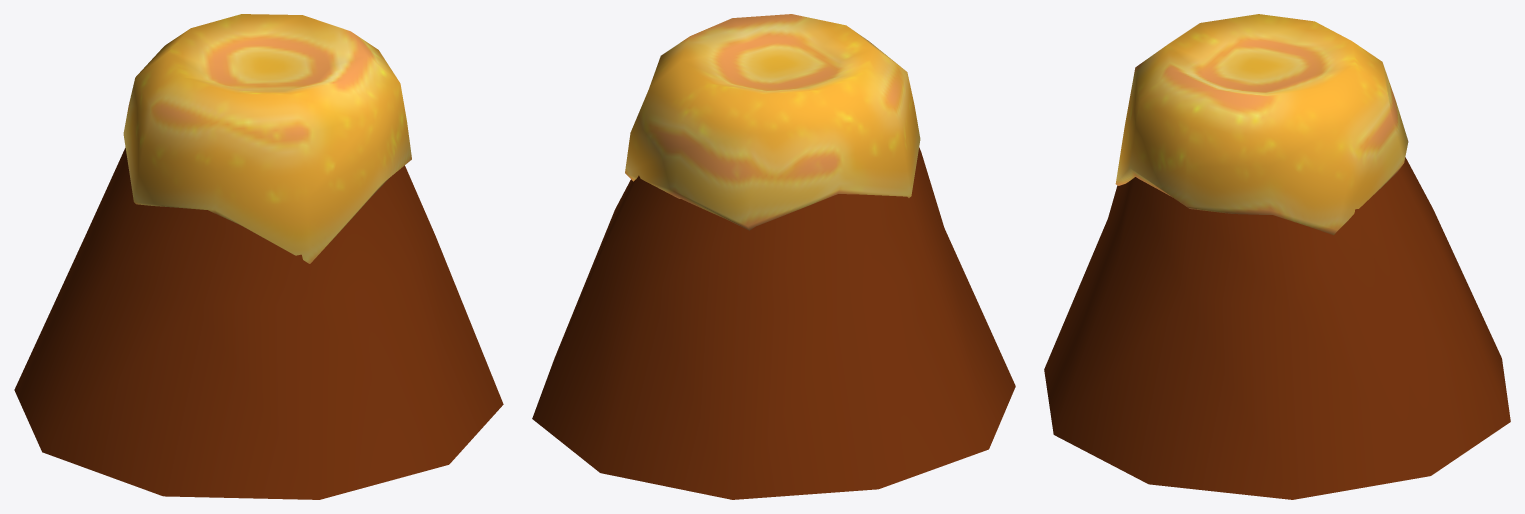
File: Lava.fbx
The picture shows the model from 3 angles, left to right: view 1: azimuth 30°, elevation 25°; view 2: azimuth 150°, elevation 25°; view 3: azimuth 270°, elevation 25°; orthographic projection. The views are drawn at different scales.
Visible parts, largest first — view 1: Lava; view 2: Lava; view 3: Lava.
Boxes of the visible parts, x1,y1,x2,y2 form: Lava: (14,14,503,499); Lava: (532,14,1015,499); Lava: (1044,14,1510,499).
Size of the model in its own units: 183 by 142 by 175.
